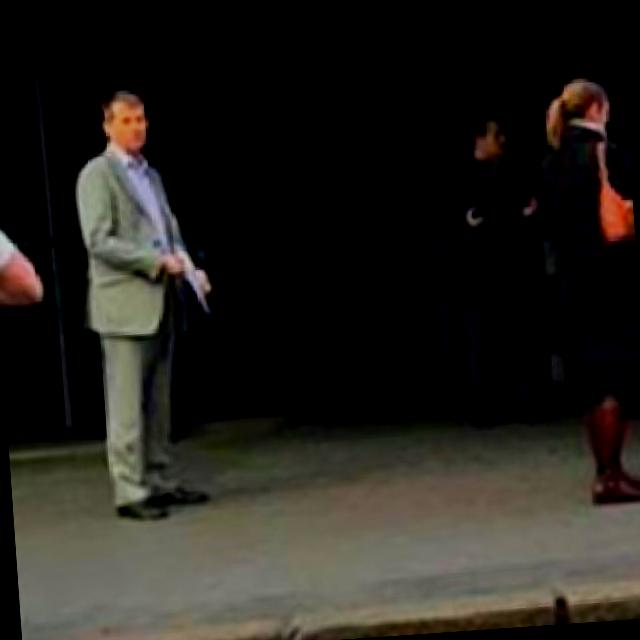Person: (44, 80, 236, 528), (538, 71, 640, 498), (426, 107, 555, 426)
